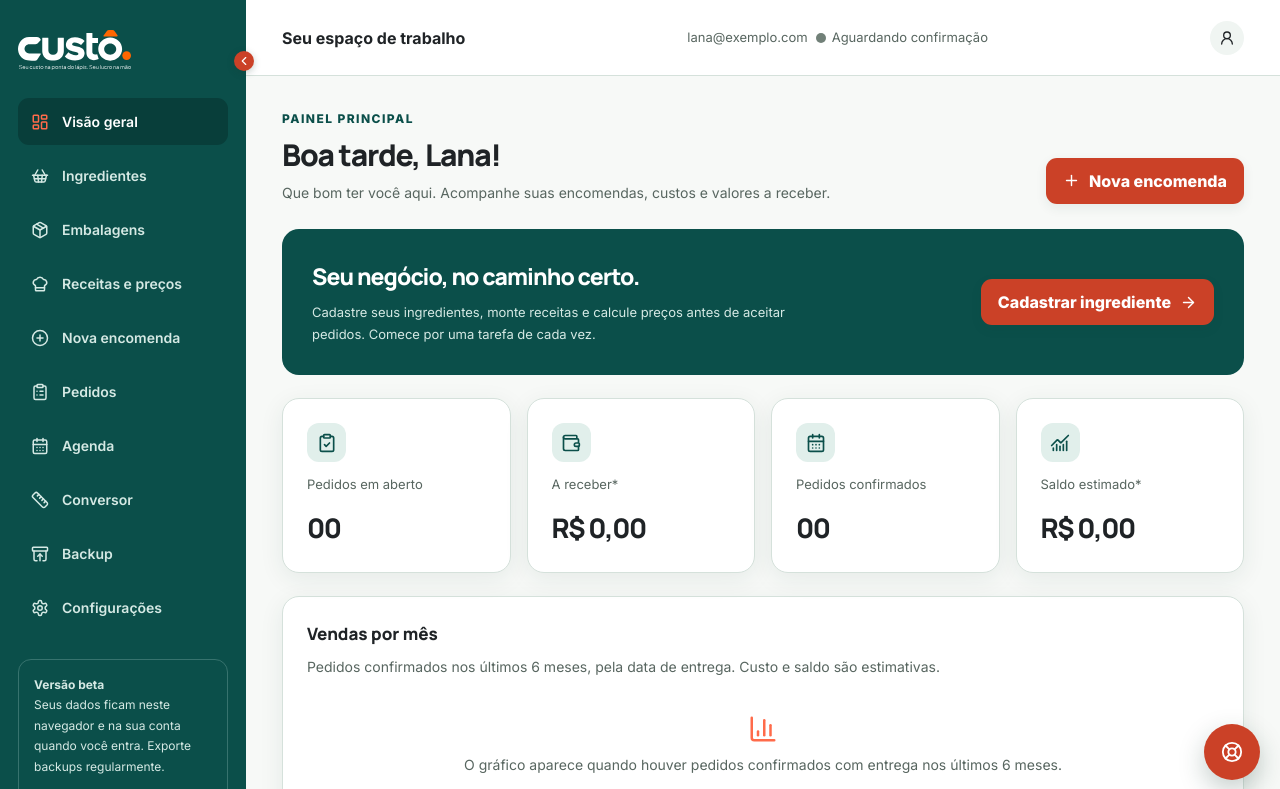
Test: botão de suporte › se o envio falhar, volta ao formulário com o texto e o aviso
Click the button named "Suporte": (1232, 752) [1204,724,1260,780]
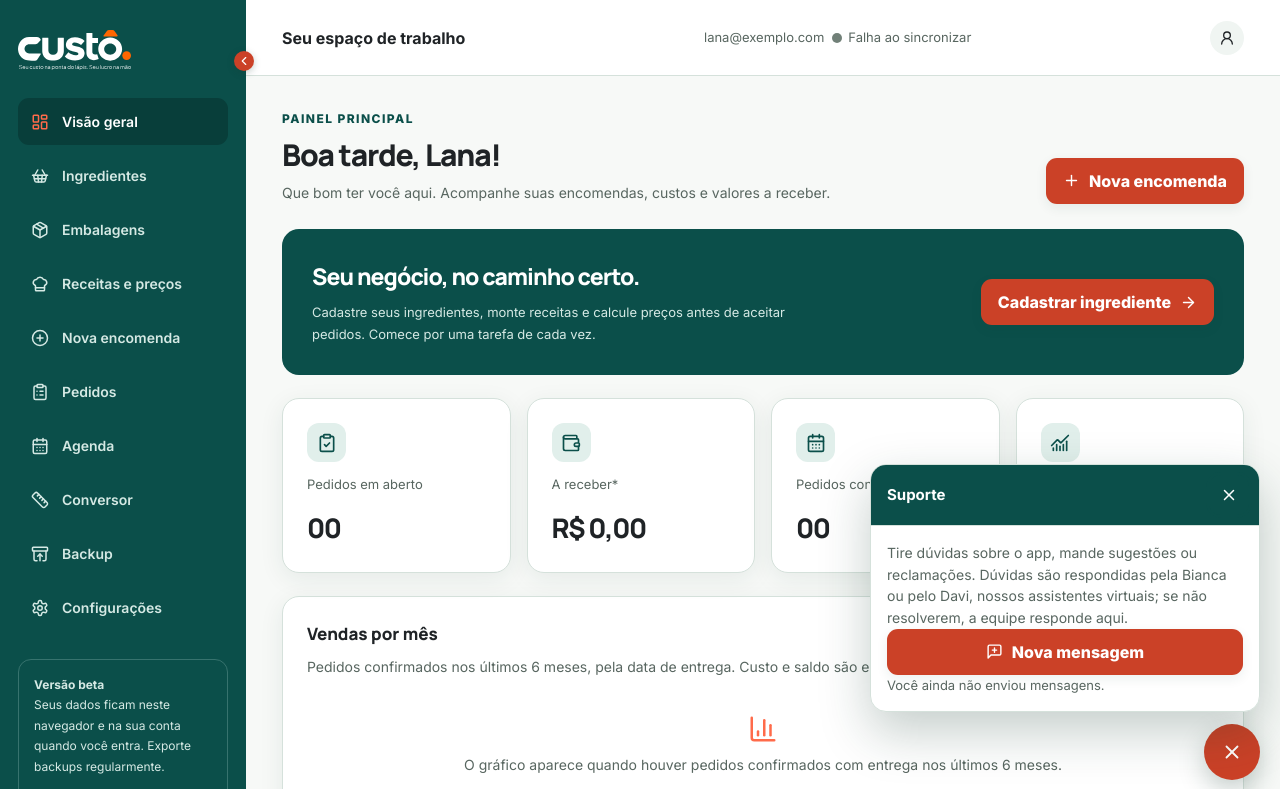
Click the button "Nova mensagem": (1065, 652) [887,629,1243,675]
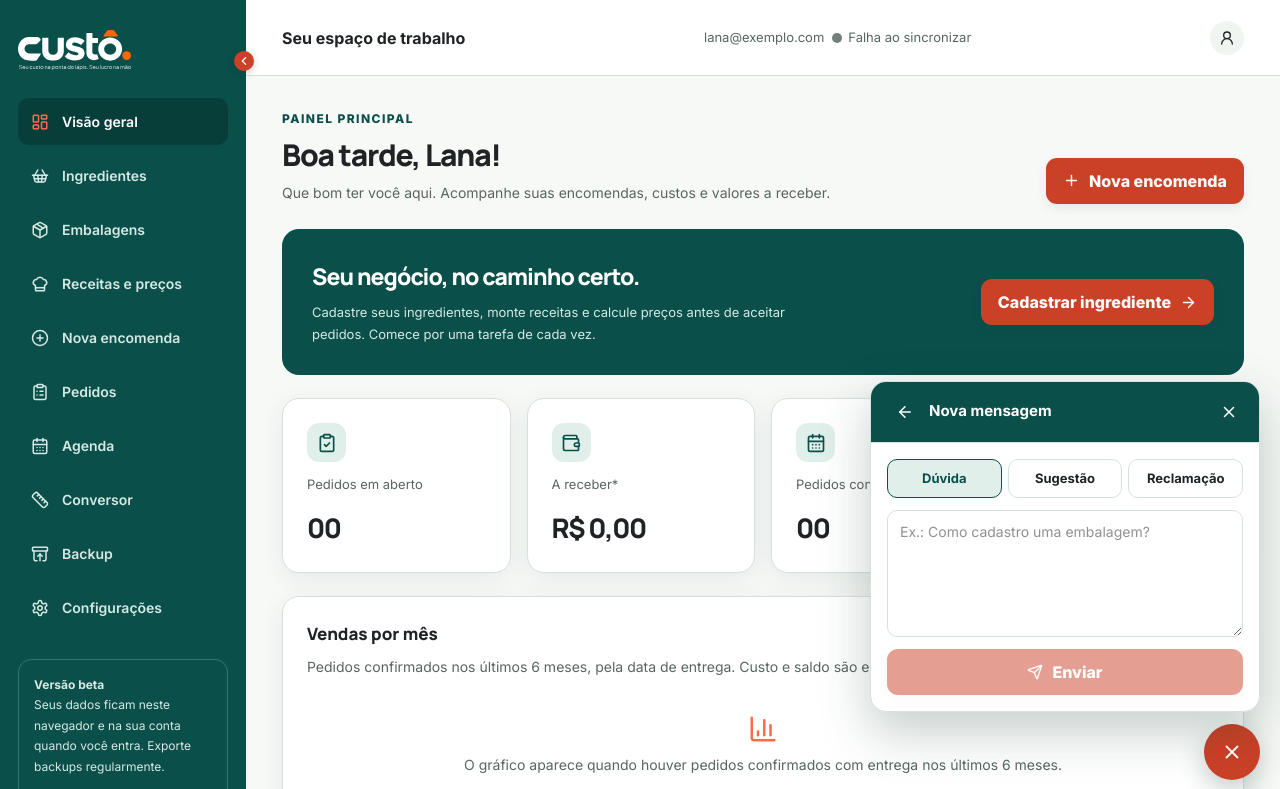
In the text box named "Mensagem": (1065, 574) [887,510,1243,637], type "falha"
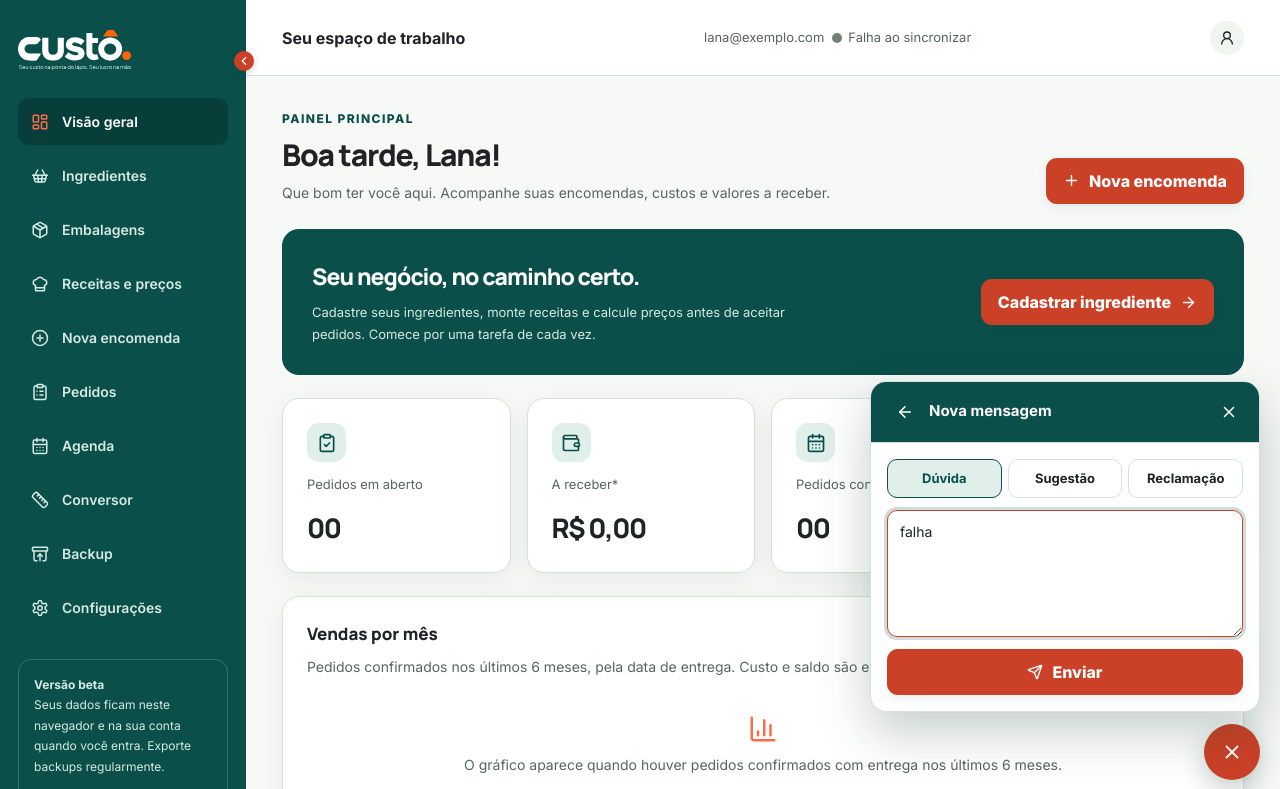
Click the button "Enviar": (1065, 672) [887,649,1243,695]
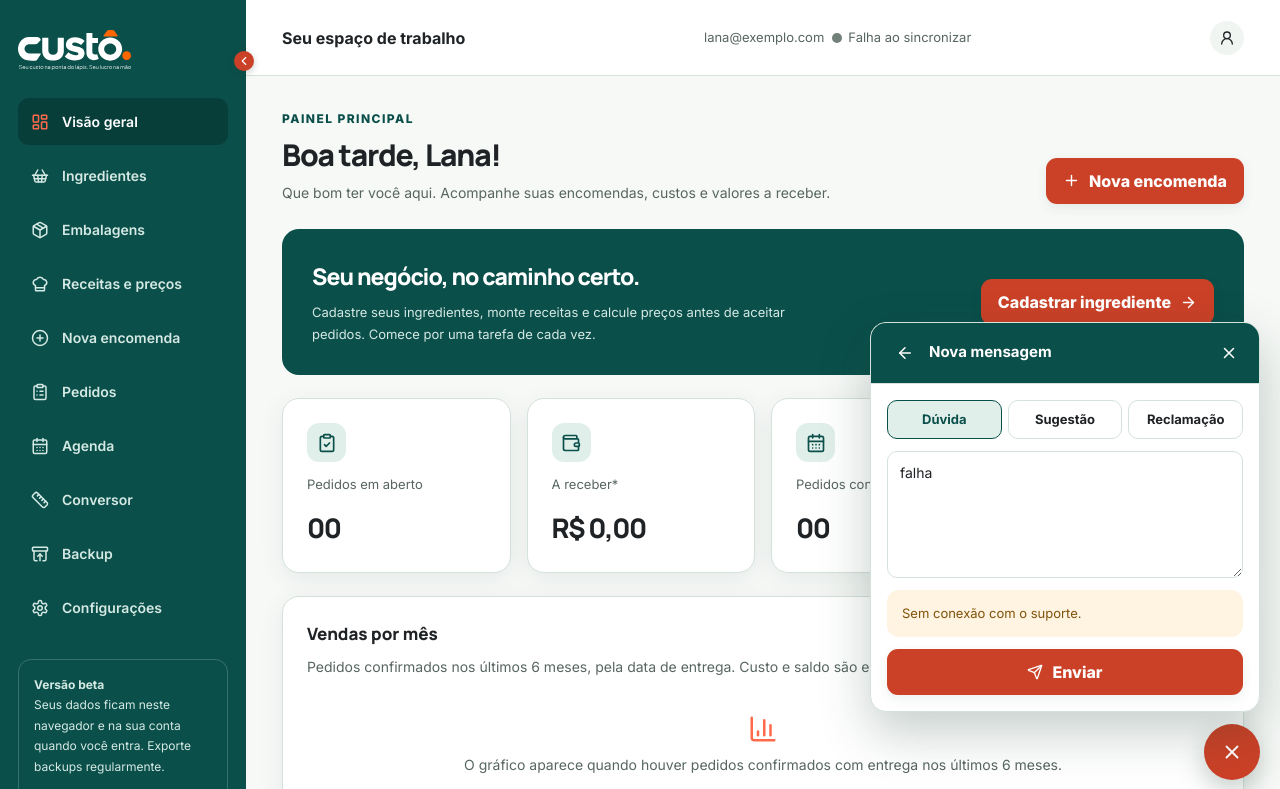
Now the text box named "Mensagem" holds "falha", box [887,451,1243,578]
Now the text "Sem conexão com o suporte." is shown, box [887,590,1243,637]
